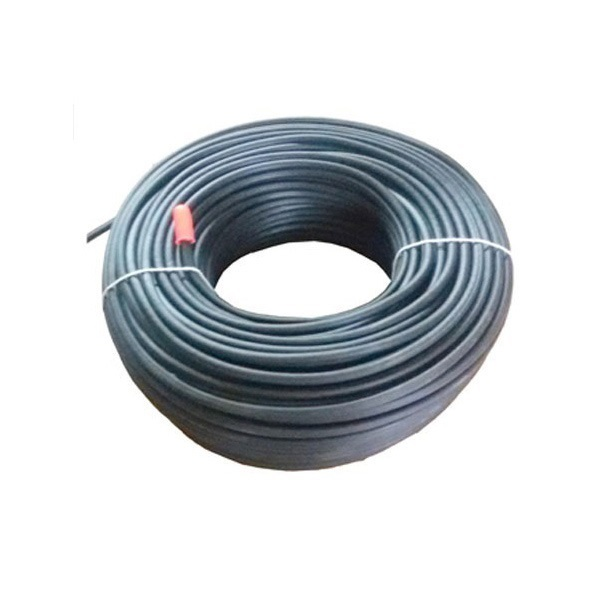Nonrec_Tangler: (59, 105, 544, 490)
